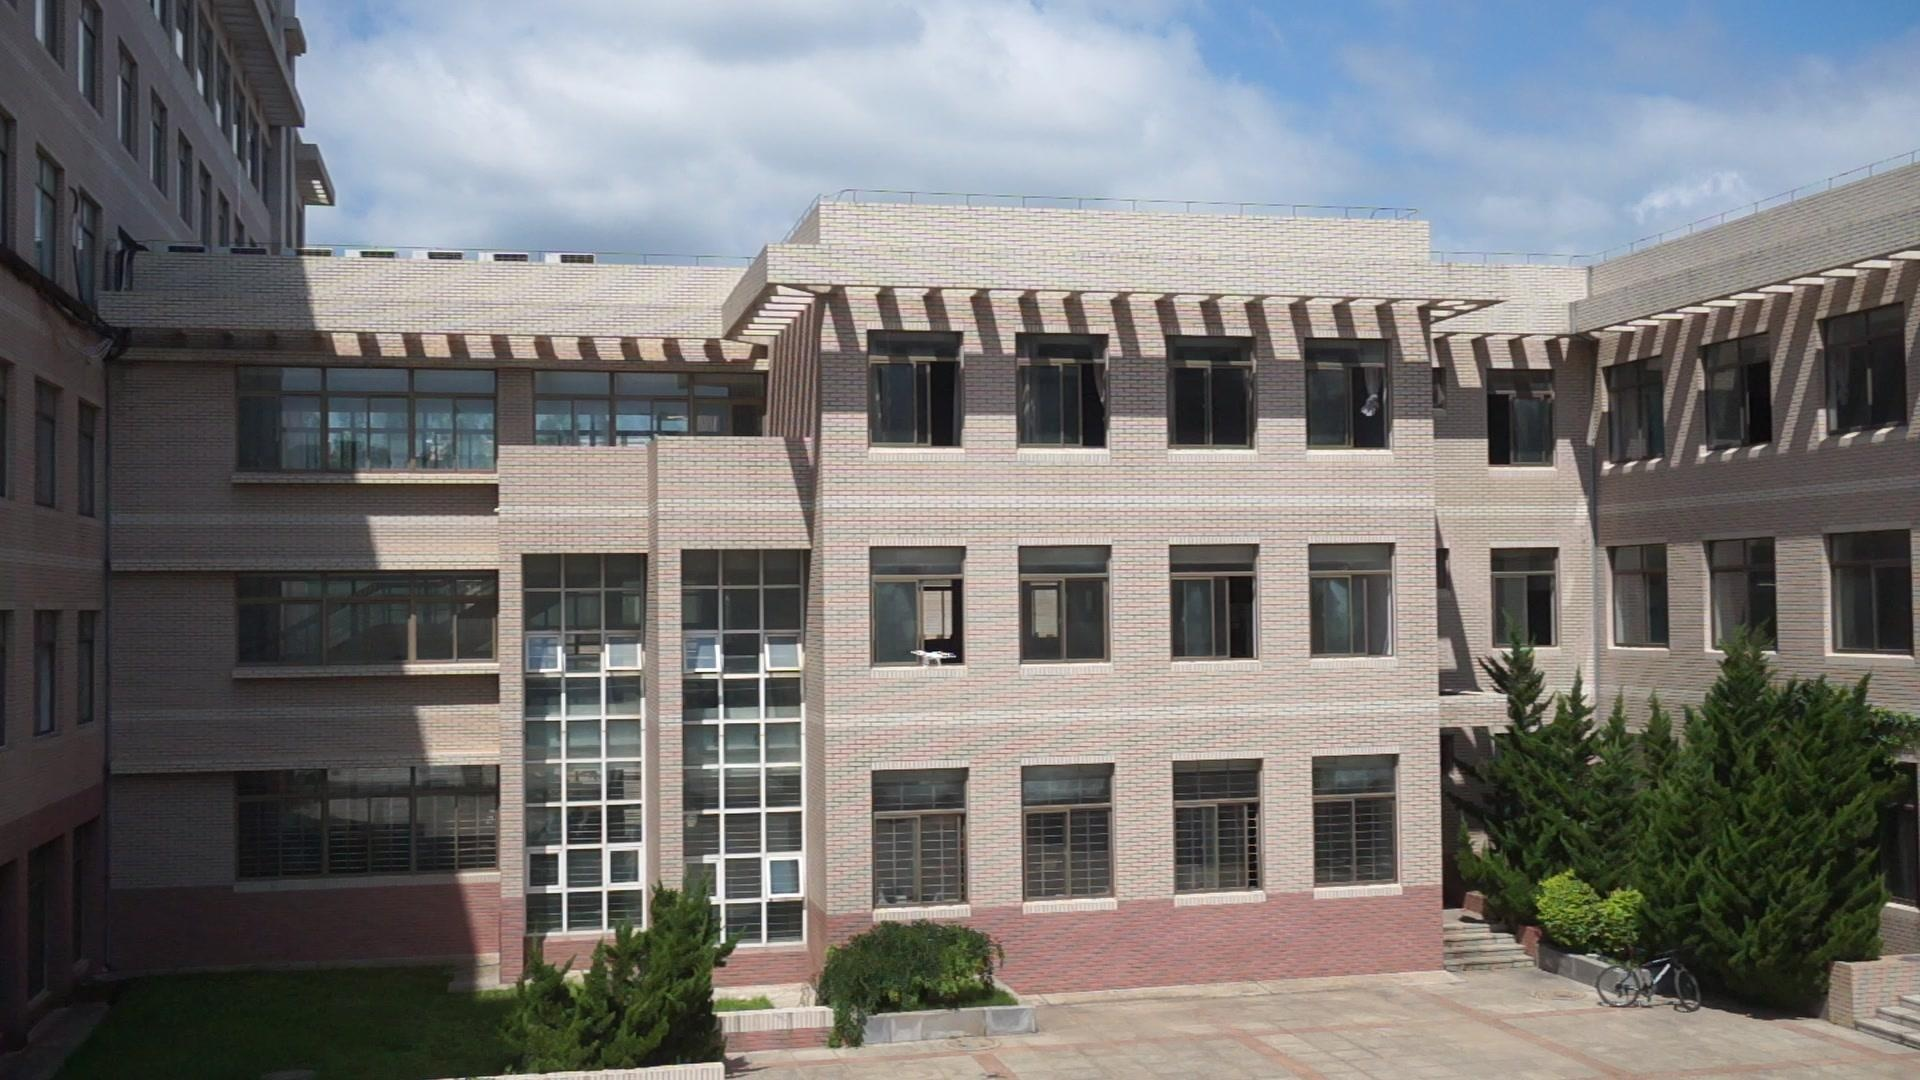UAV: (911, 650, 957, 670)
